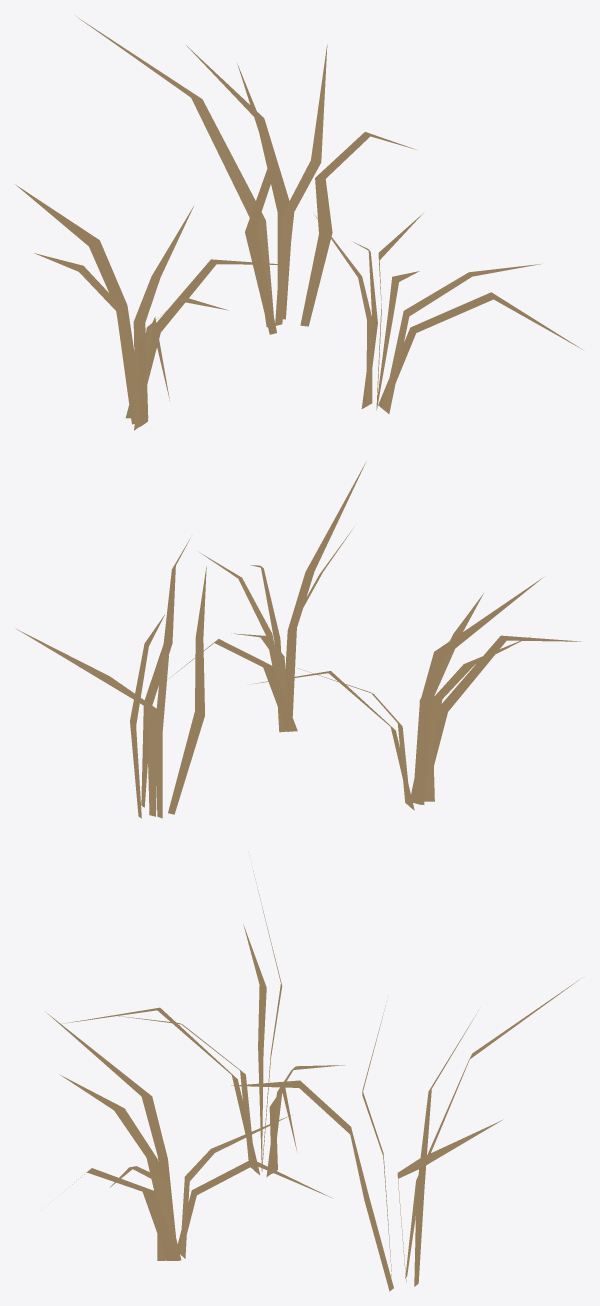
The model's file is Grass_f_OneS_05.fbx.
3 views of the same model, one above another, from view 1: azimuth 30°, elevation 25°; view 2: azimuth 150°, elevation 25°; view 3: azimuth 270°, elevation 25° (orthographic). The views are drawn at different scales.
Visible parts, largest first — view 1: Grass_f_OneS_05; view 2: Grass_f_OneS_05; view 3: Grass_f_OneS_05.
Boxes of the visible parts, x1,y1,x2,y2 form: Grass_f_OneS_05: (15, 16, 582, 430); Grass_f_OneS_05: (16, 461, 581, 818); Grass_f_OneS_05: (45, 870, 579, 1291).
Bounding box in the file's own units: 0.7129 × 0.4301 × 0.8159.
